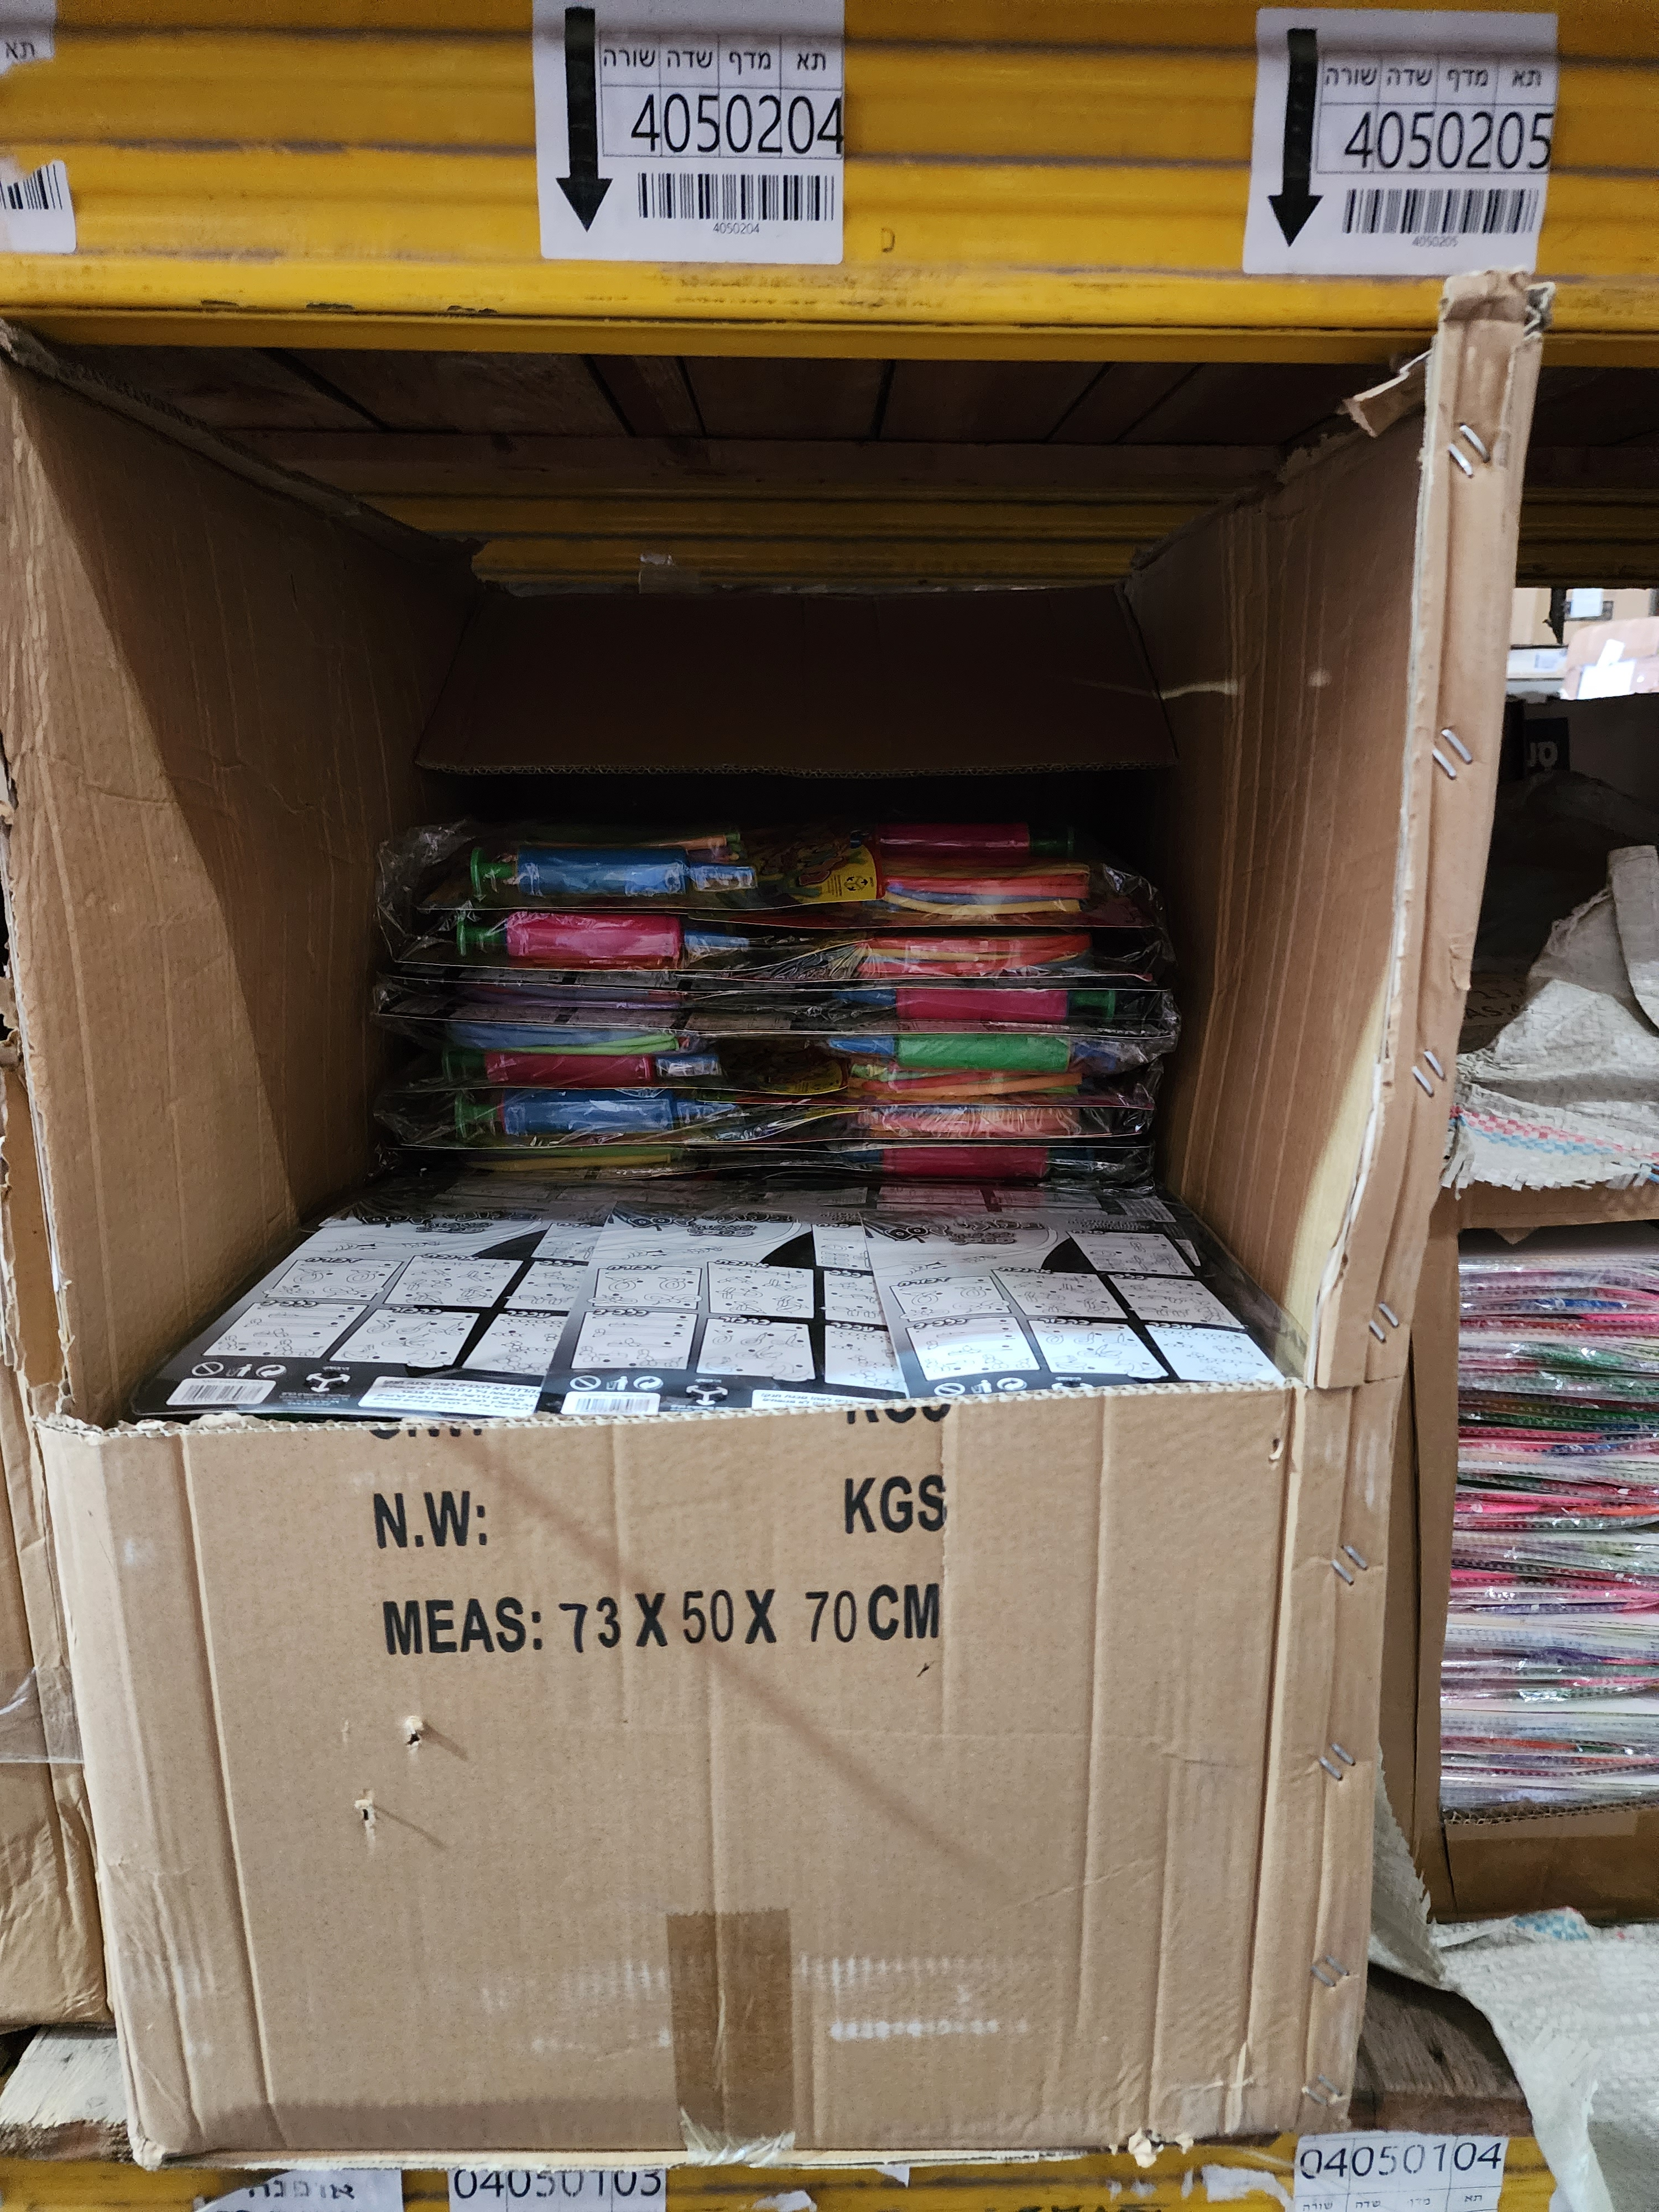box: (47, 1305, 1403, 2160)
